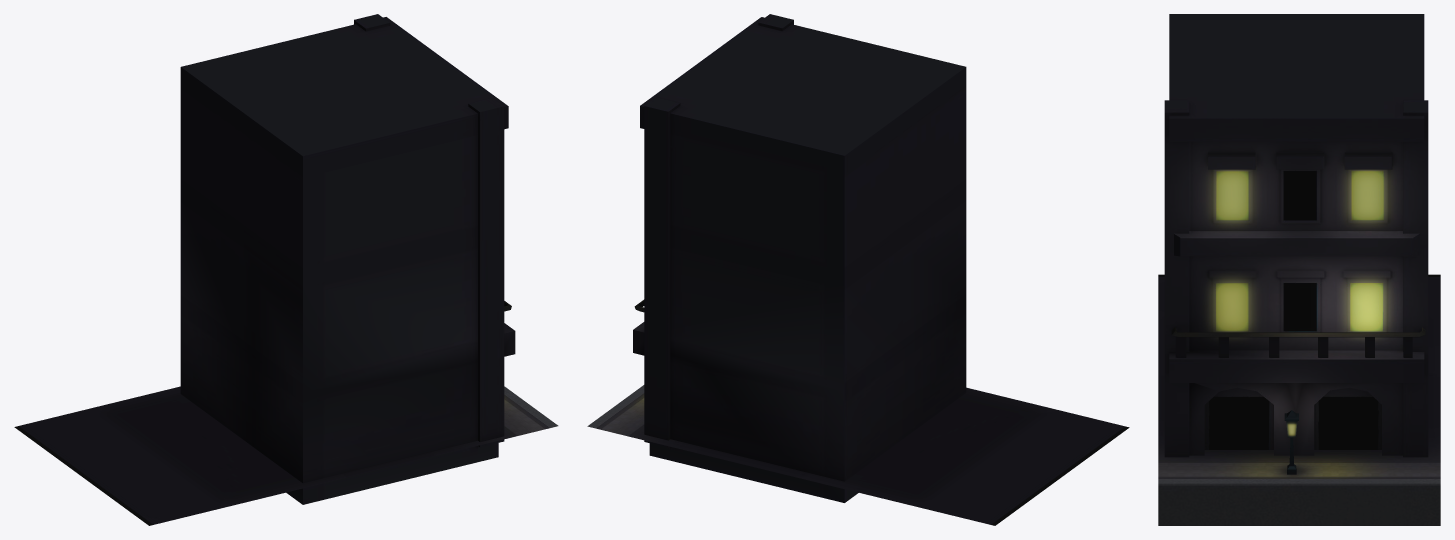
The picture shows the model from 3 angles, left to right: view 1: azimuth 30°, elevation 25°; view 2: azimuth 150°, elevation 25°; view 3: azimuth 270°, elevation 25°; orthographic projection. The views are drawn at different scales.
Visible parts, largest first — view 1: modelB001; view 2: modelB001; view 3: modelB001.
Boxes of the visible parts, x1,y1,x2,y2 form: modelB001: (14, 14, 558, 525); modelB001: (587, 14, 1129, 525); modelB001: (1158, 14, 1440, 525).
Bounding box in the file's own units: 7 × 6.05 × 4.
Materials: 1 (1 with a texture image).
